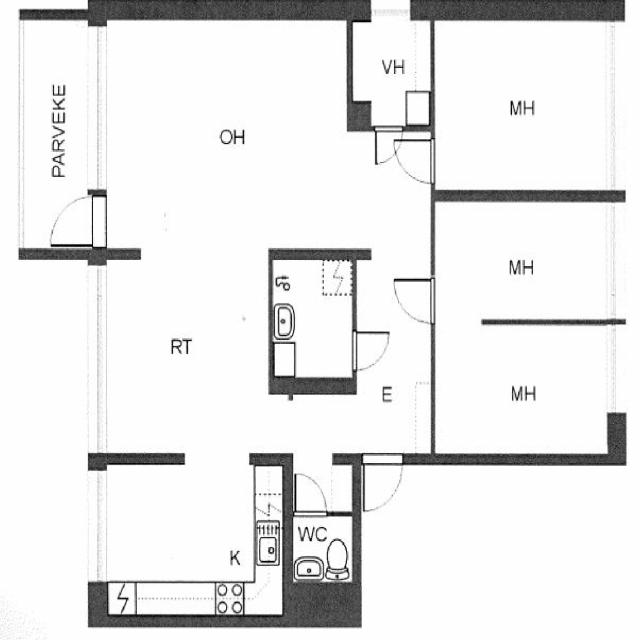door: (47, 197, 107, 246), (364, 454, 401, 509), (393, 279, 434, 324), (395, 141, 434, 183), (352, 332, 388, 370), (295, 475, 326, 516), (376, 125, 402, 163)
